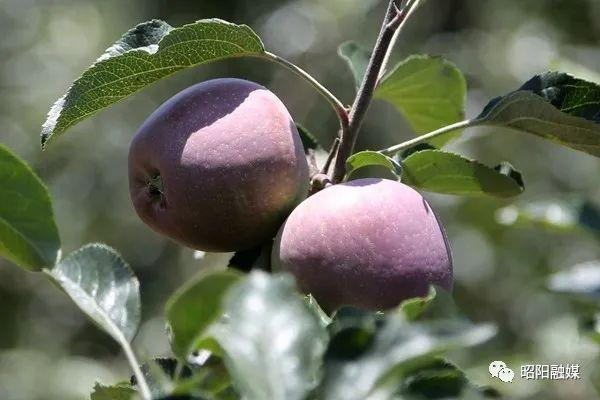apple: (127, 78, 313, 259), (270, 177, 451, 313)
